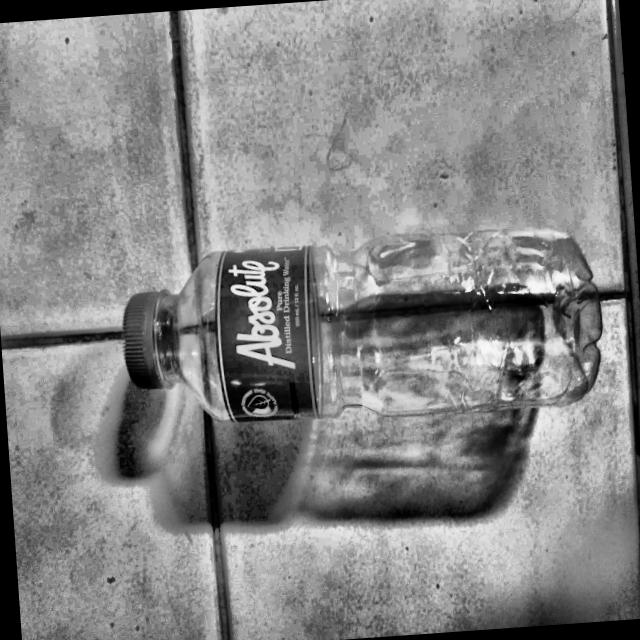Plastic-Bottle: (111, 212, 612, 438)
